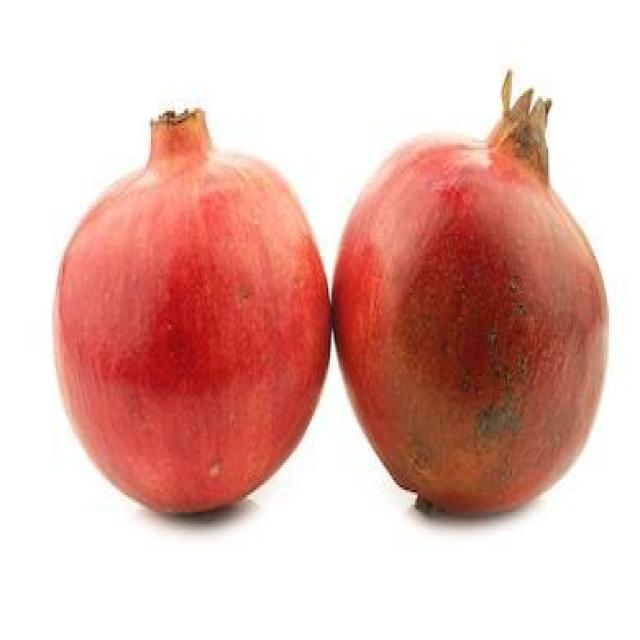Pomegranate: (334, 66, 610, 523), (49, 100, 333, 524)
